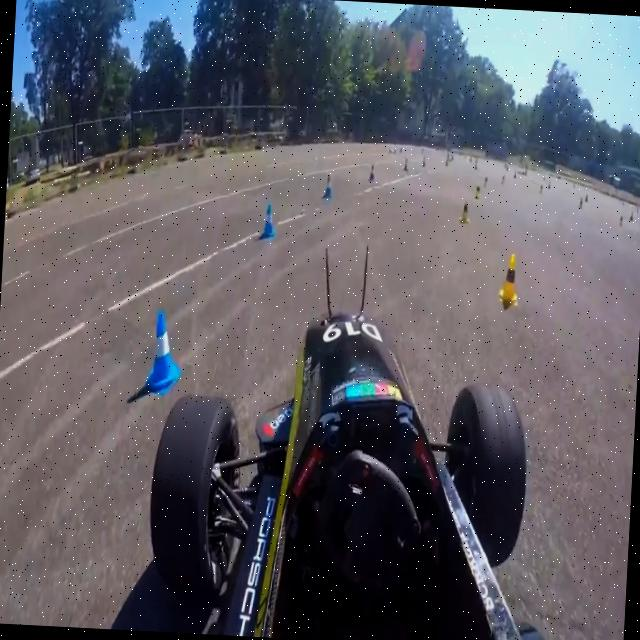blue_cone: (141, 303, 185, 397), (260, 204, 276, 240), (322, 172, 332, 199), (368, 162, 376, 185), (403, 156, 409, 173), (421, 154, 426, 168)
yellow_cone: (498, 245, 522, 308), (459, 196, 471, 224), (474, 182, 482, 200), (484, 175, 489, 188)
